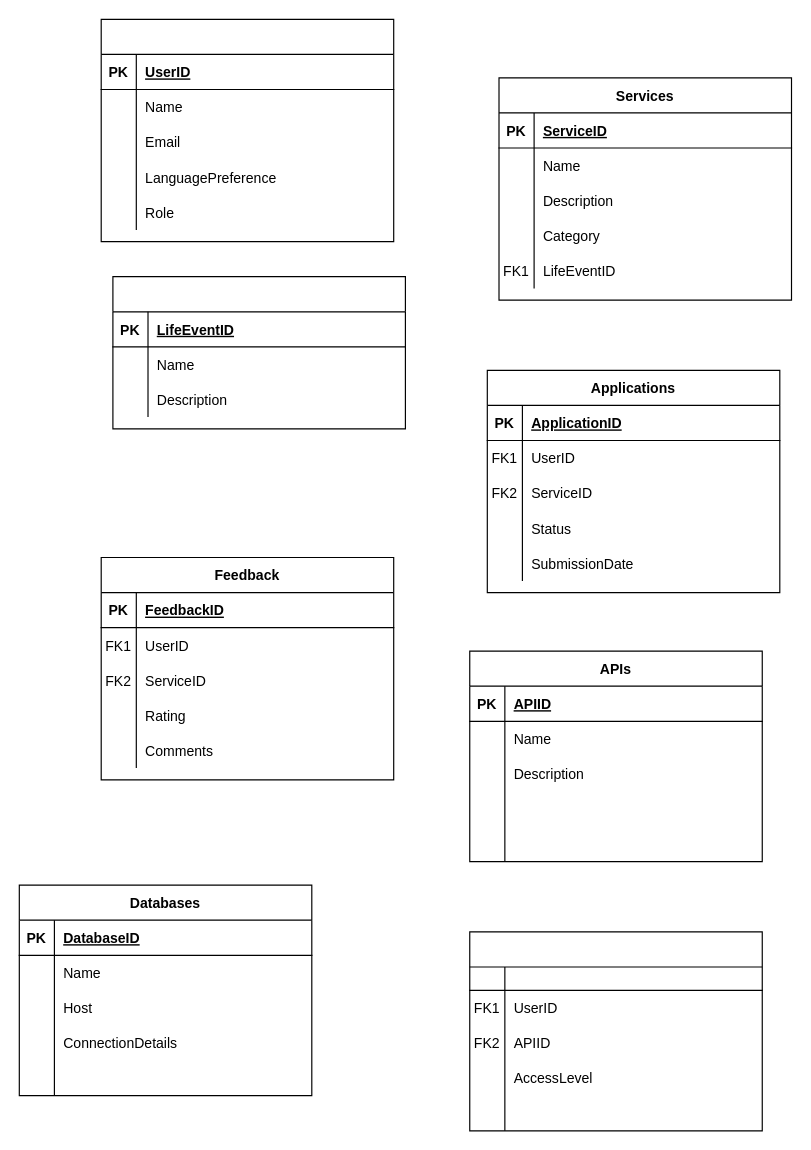
Image size: 811x1150. Some labels were removed from this diagram. Each missing label, with the box of its shape:
LifeEvents: (112, 276, 405, 429)
User-API Access: (469, 931, 762, 1131)
Users: (100, 18, 394, 242)
